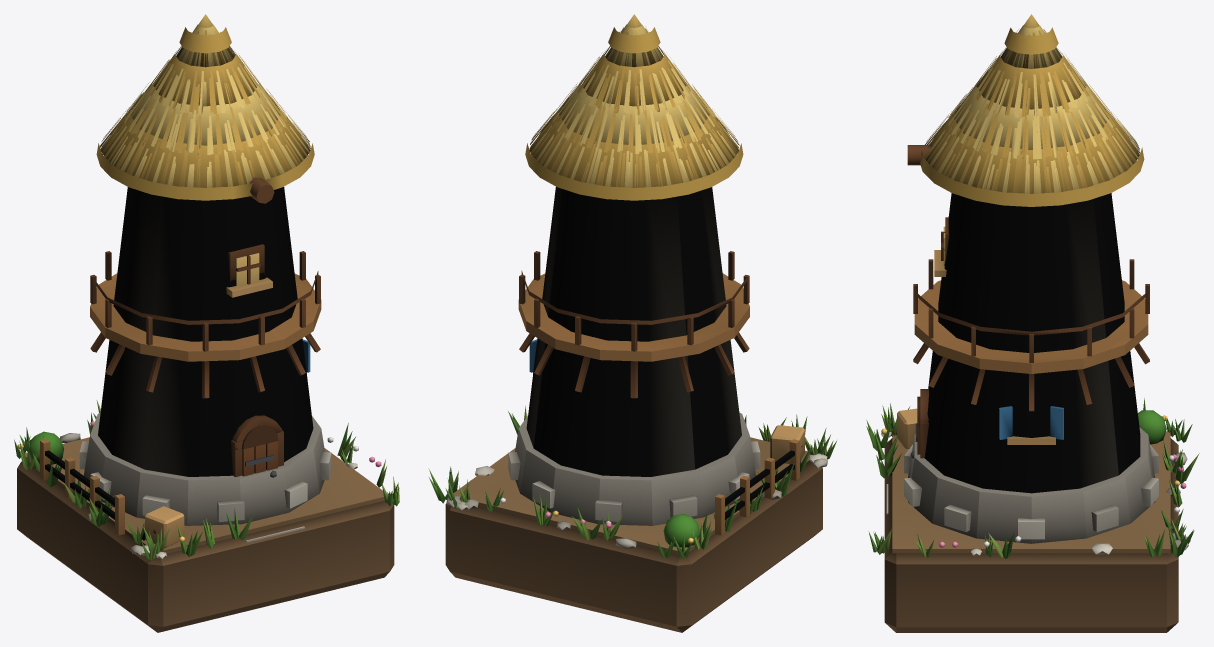
File: windmill.glb
3 views of the same model, side by side, from view 1: azimuth 30°, elevation 25°; view 2: azimuth 150°, elevation 25°; view 3: azimuth 270°, elevation 25° (orthographic). The views are drawn at different scales.
Visible parts, largest first — view 1: windmill_l1, windmill_l2, windmill_l3; view 2: windmill_l1, windmill_l2, windmill_l3; view 3: windmill_l1, windmill_l3, windmill_l2.
Boxes of the visible parts, left/top/right/bottom form: windmill_l1: left=17, top=14, right=394, bottom=632; windmill_l2: left=14, top=30, right=399, bottom=556; windmill_l3: left=19, top=30, right=398, bottom=558; windmill_l1: left=445, top=14, right=836, bottom=632; windmill_l2: left=448, top=28, right=827, bottom=558; windmill_l3: left=428, top=26, right=830, bottom=558; windmill_l1: left=874, top=14, right=1199, bottom=632; windmill_l3: left=866, top=29, right=1193, bottom=557; windmill_l2: left=868, top=32, right=1190, bottom=557.
Size of the model in its own units: 0.8447 by 1.6 by 0.8632.
